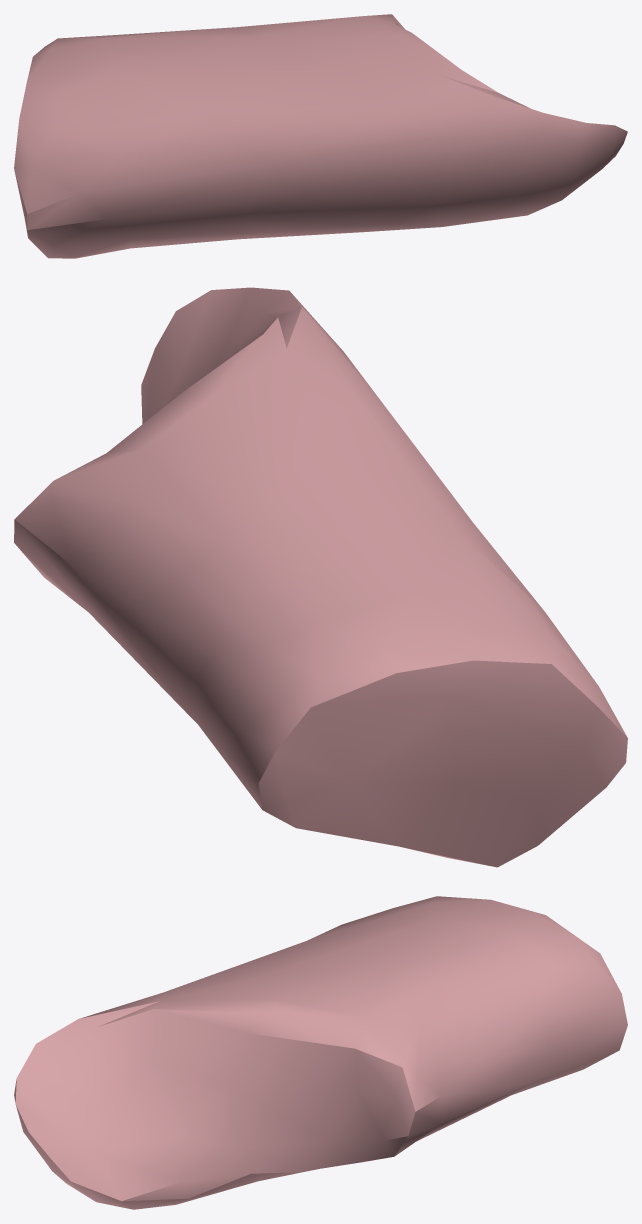
The model's file is fma83739-r_mm3770m.glb.
3 renders of one model, top to bottom at view 1: azimuth 30°, elevation 25°; view 2: azimuth 150°, elevation 25°; view 3: azimuth 270°, elevation 25°, orthographic. The views are drawn at different scales.
Visible parts, largest first — view 1: FMA83739-R_MM3770M; view 2: FMA83739-R_MM3770M; view 3: FMA83739-R_MM3770M.
Part boxes in pixels (x1=…): FMA83739-R_MM3770M: x1=14, y1=14, x2=627, y2=258; FMA83739-R_MM3770M: x1=14, y1=287, x2=627, y2=867; FMA83739-R_MM3770M: x1=14, y1=896, x2=627, y2=1209.
Size of the model in its own units: 0.0113 by 0.00487 by 0.0112.
